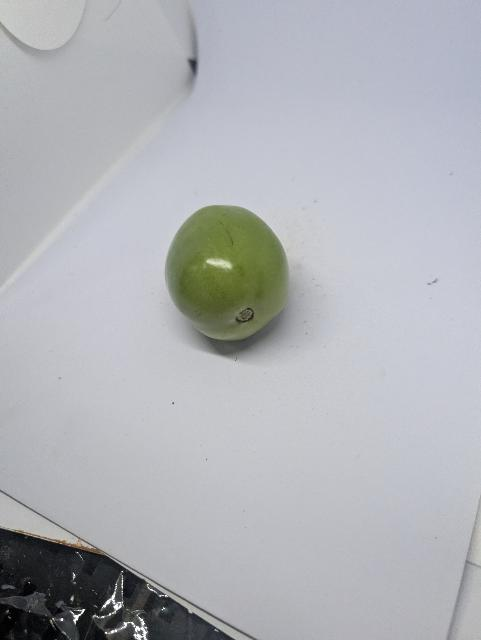green: (148, 191, 296, 367)
